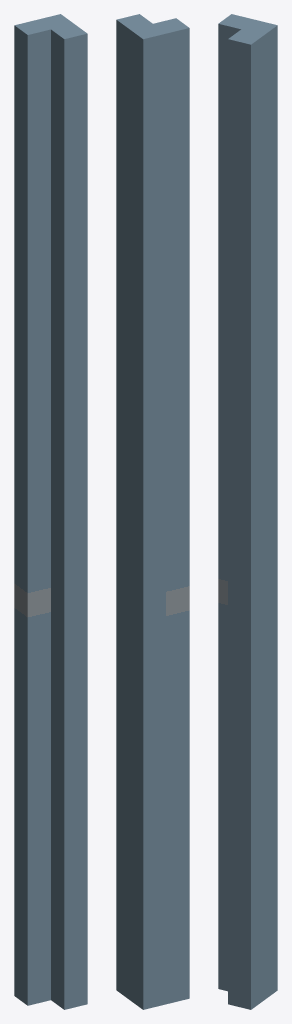
Rendered from block_stone_north_east.dae.
3 views of the same model, side by side, from view 1: azimuth 30°, elevation 25°; view 2: azimuth 210°, elevation 25°; view 3: azimuth 330°, elevation 25° (orthographic).
Visible parts, largest first — view 1: block_stone_north_east; view 2: block_stone_north_east; view 3: block_stone_north_east.
Boxes of the visible parts, x1=… form: block_stone_north_east: x1=14, y1=14, x2=87, y2=1009; block_stone_north_east: x1=116, y1=14, x2=189, y2=1009; block_stone_north_east: x1=218, y1=14, x2=277, y2=1009.
Bounding box in the file's own units: 0.2 × 0.2 × 4.
Materials: 1 (1 with a texture image).
